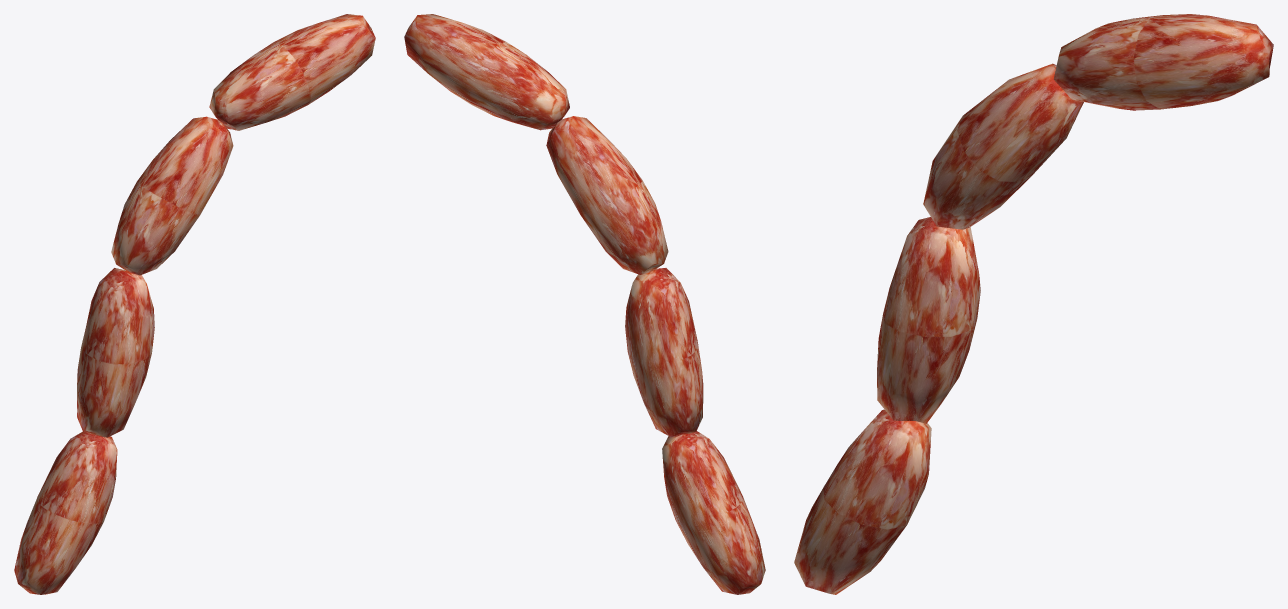
The model's file is SAUSAGE.FBX.
3 views of the same model, side by side, from view 1: azimuth 30°, elevation 25°; view 2: azimuth 150°, elevation 25°; view 3: azimuth 330°, elevation 25° (orthographic). The views are drawn at different scales.
Parts seen in each view (by area): view 1: Sphere001; view 2: Sphere001; view 3: Sphere001.
Boxes of the visible parts, x1,y1,x2,y2 form: Sphere001: (14,14,375,594); Sphere001: (404,14,765,594); Sphere001: (794,14,1273,594).
Bounding box in the file's own units: 53.07 × 72.05 × 9.68.
Materials: 1 (1 with a texture image).
